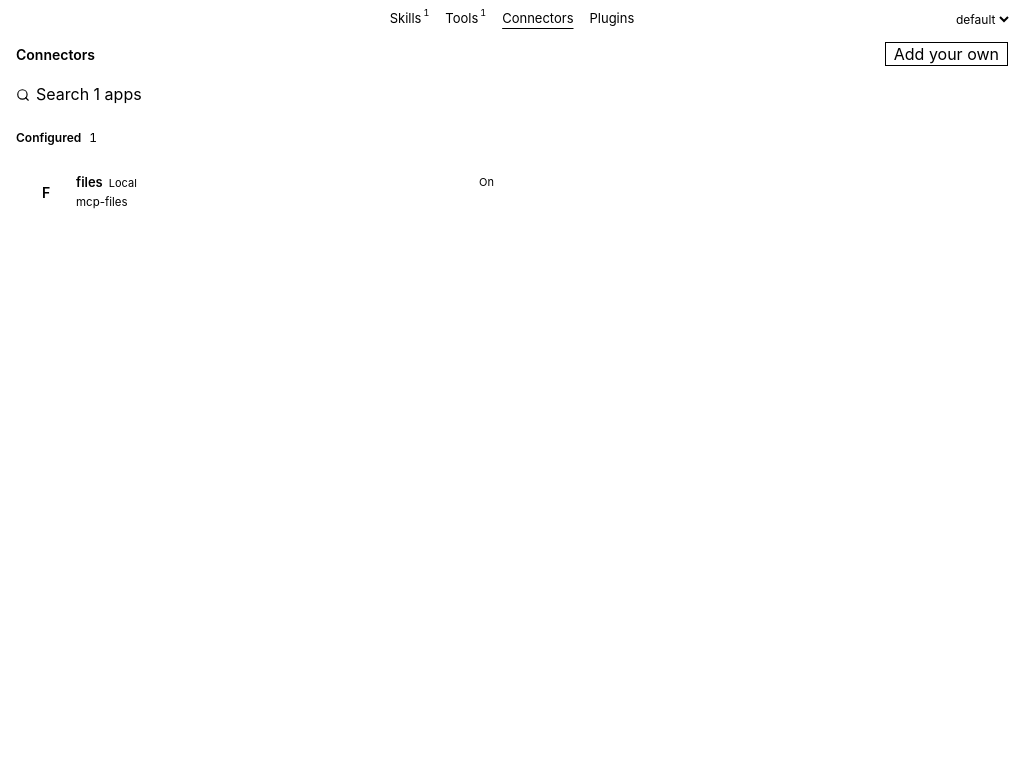
Test: capabilities page › a connector card opens its dialog; Test reports the tools
Check: the text "Local" is shown, box [109,175,137,191]
What coordinates should you click on to do the following:
click the button named "Details: files"
I would click on:
 (261, 192)
Its box is [16,159,506,225].
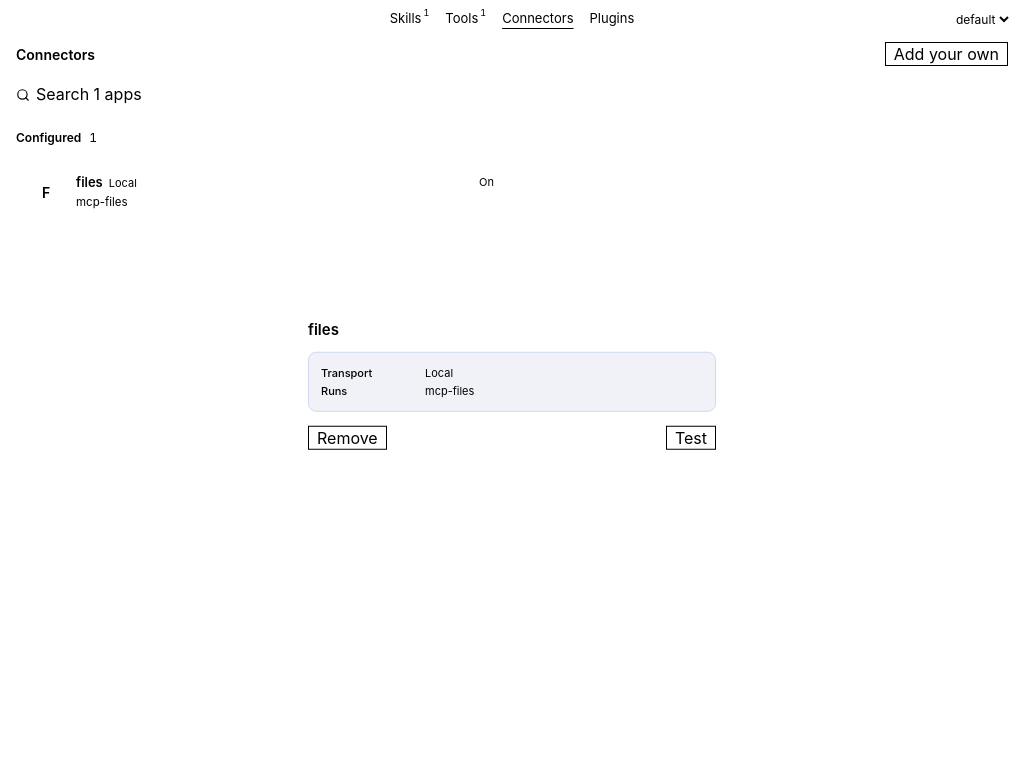
What coordinates should you click on to do the following:
click the button "Test"
I would click on:
 (691, 437)
Its box is [666,425,716,449].
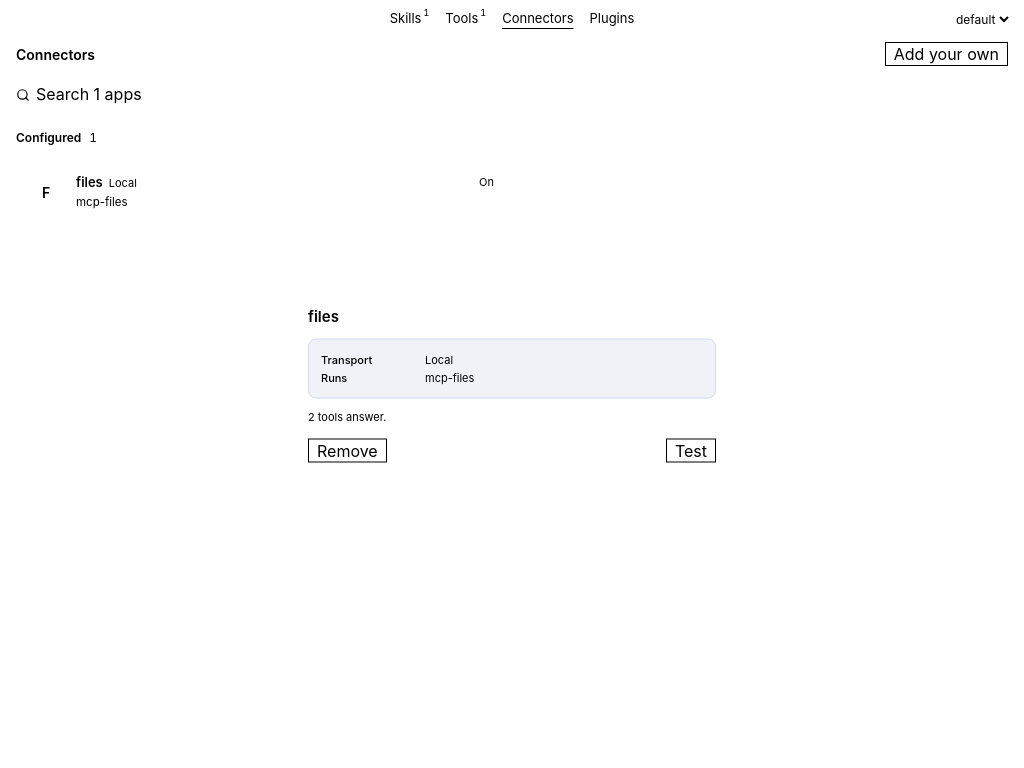
Check: the message reads "2 tools answer.", box [308,409,386,423]
